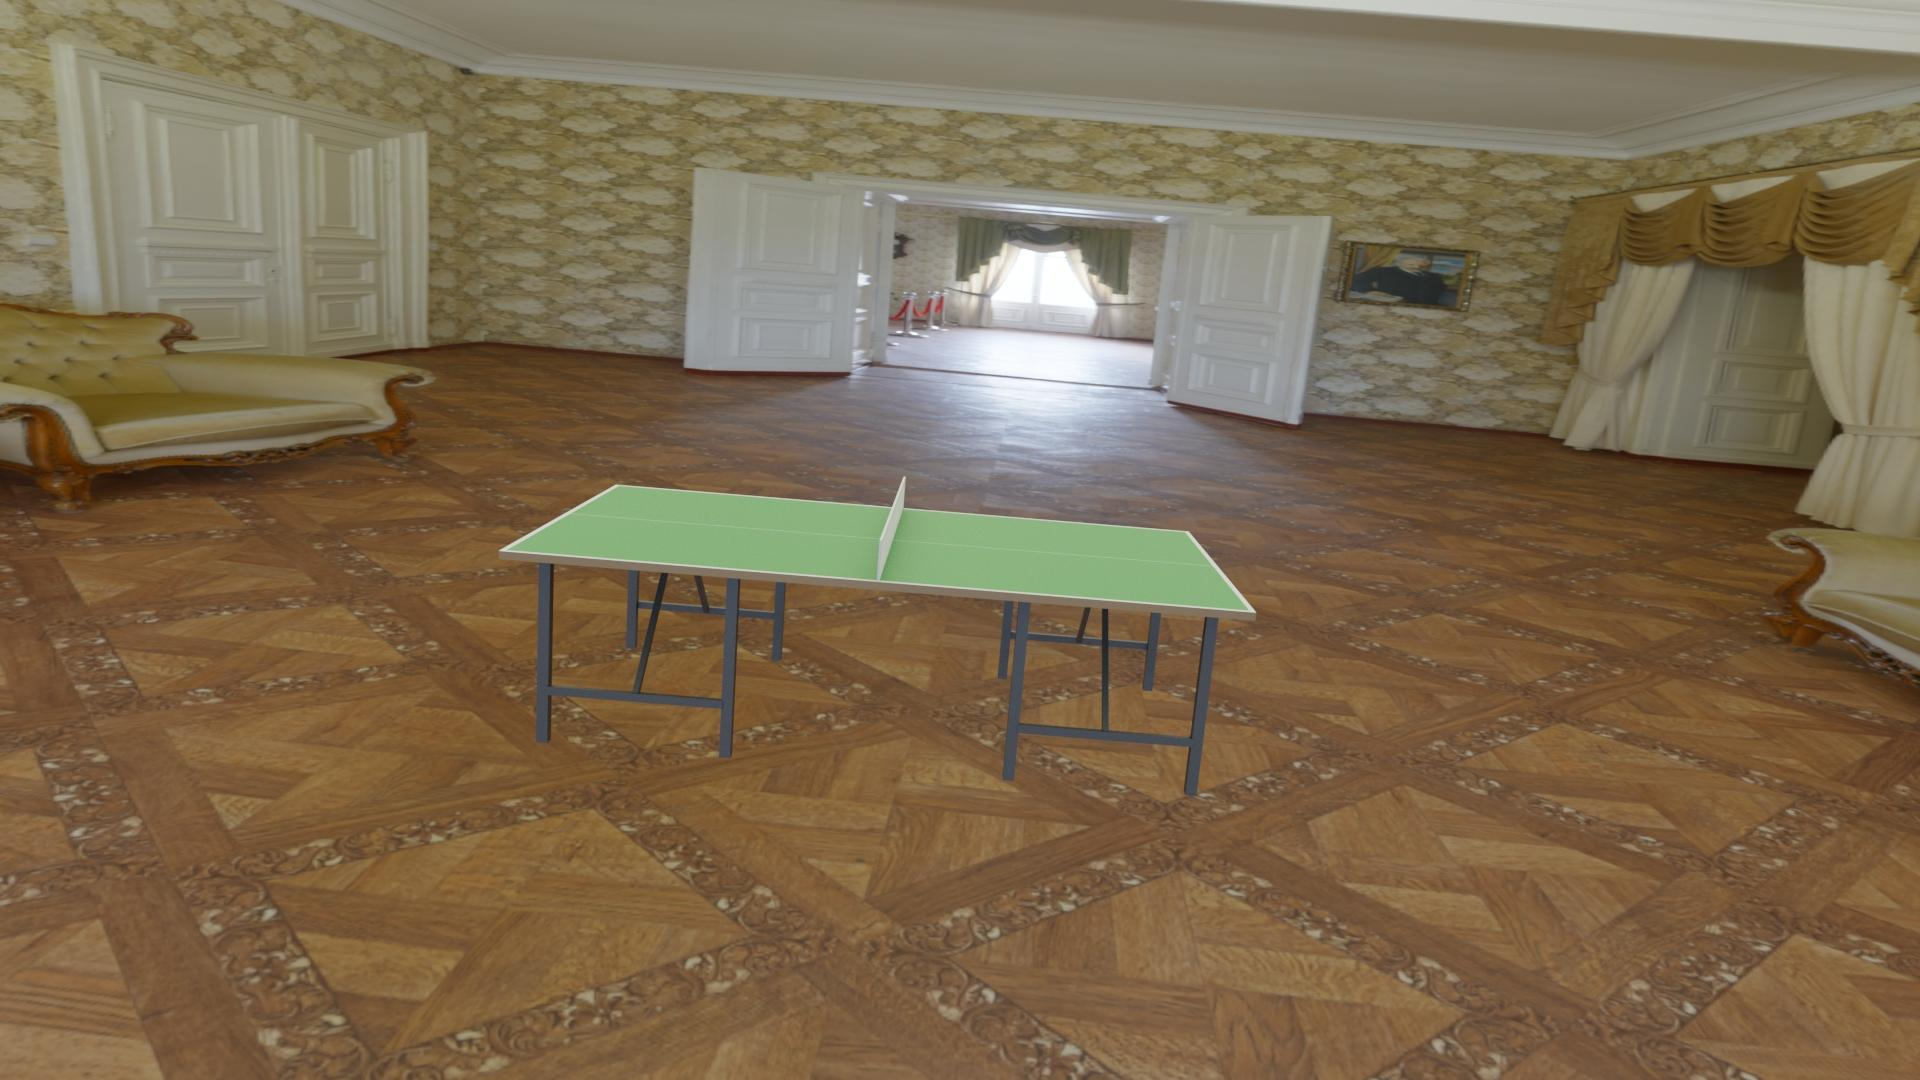table: (506, 485, 1250, 611)
